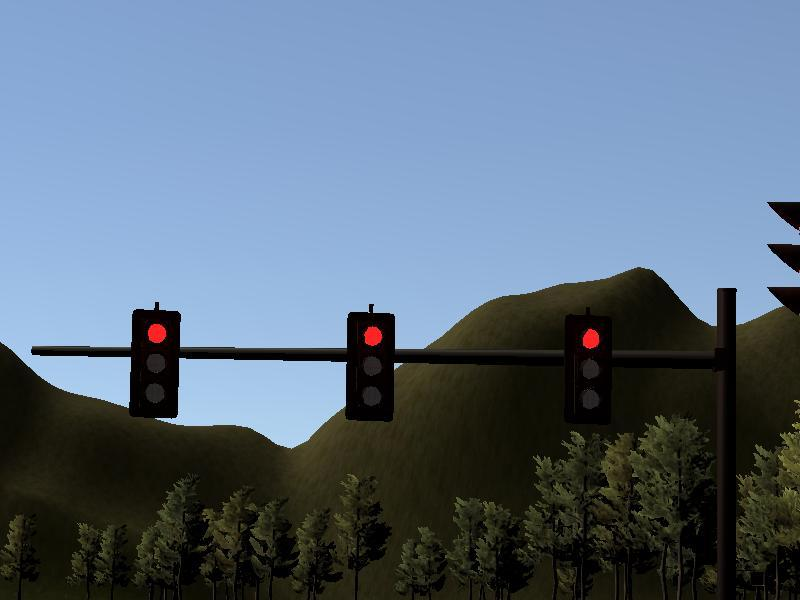Red: (131, 309, 178, 417), (564, 315, 611, 423), (345, 312, 392, 420)
